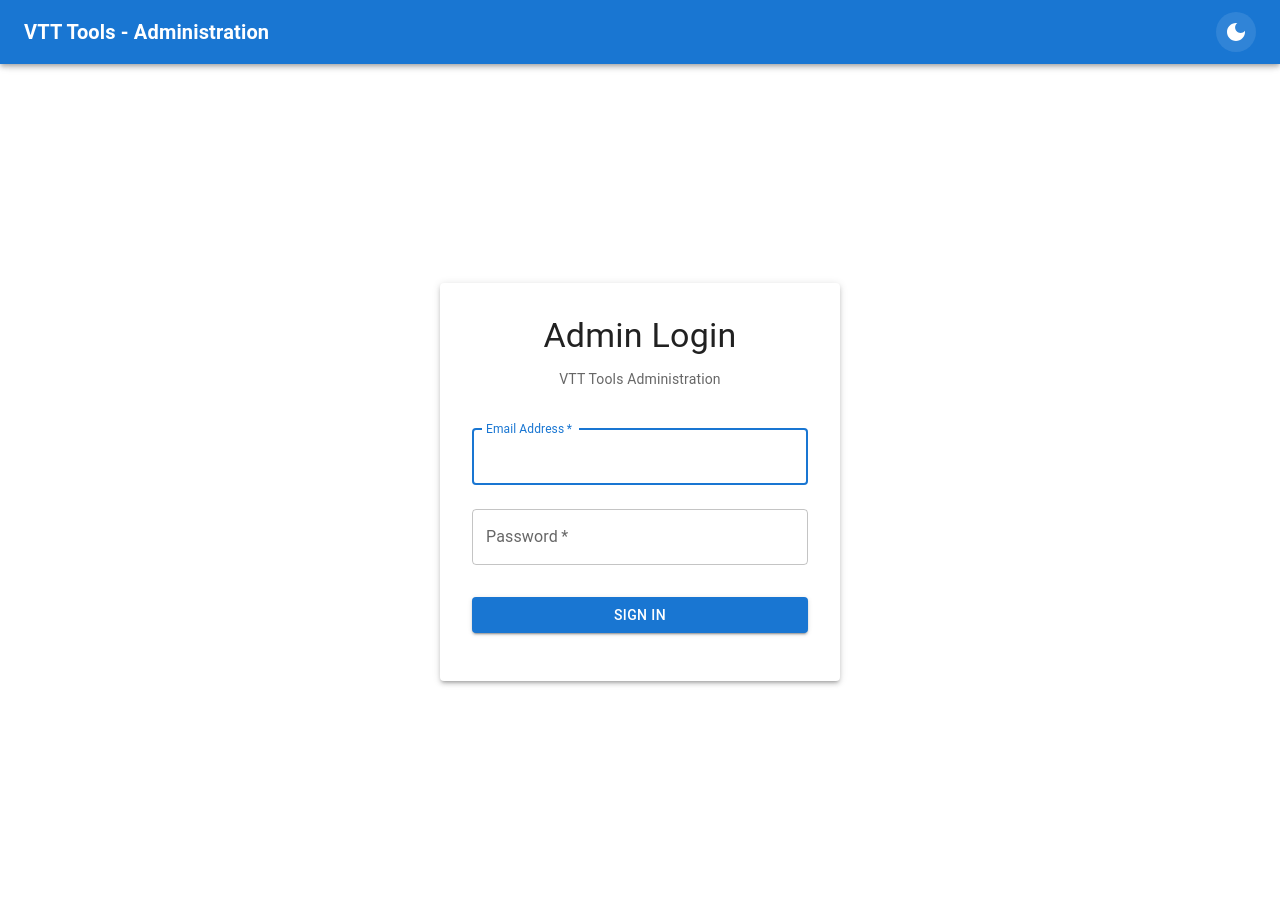
LoginPage › Password validation › should clear validation error when password field is emptied
The image size is (1280, 900).
Type "short" into the password field labelled "Password *" at (640, 537), box [472,509,808,565]
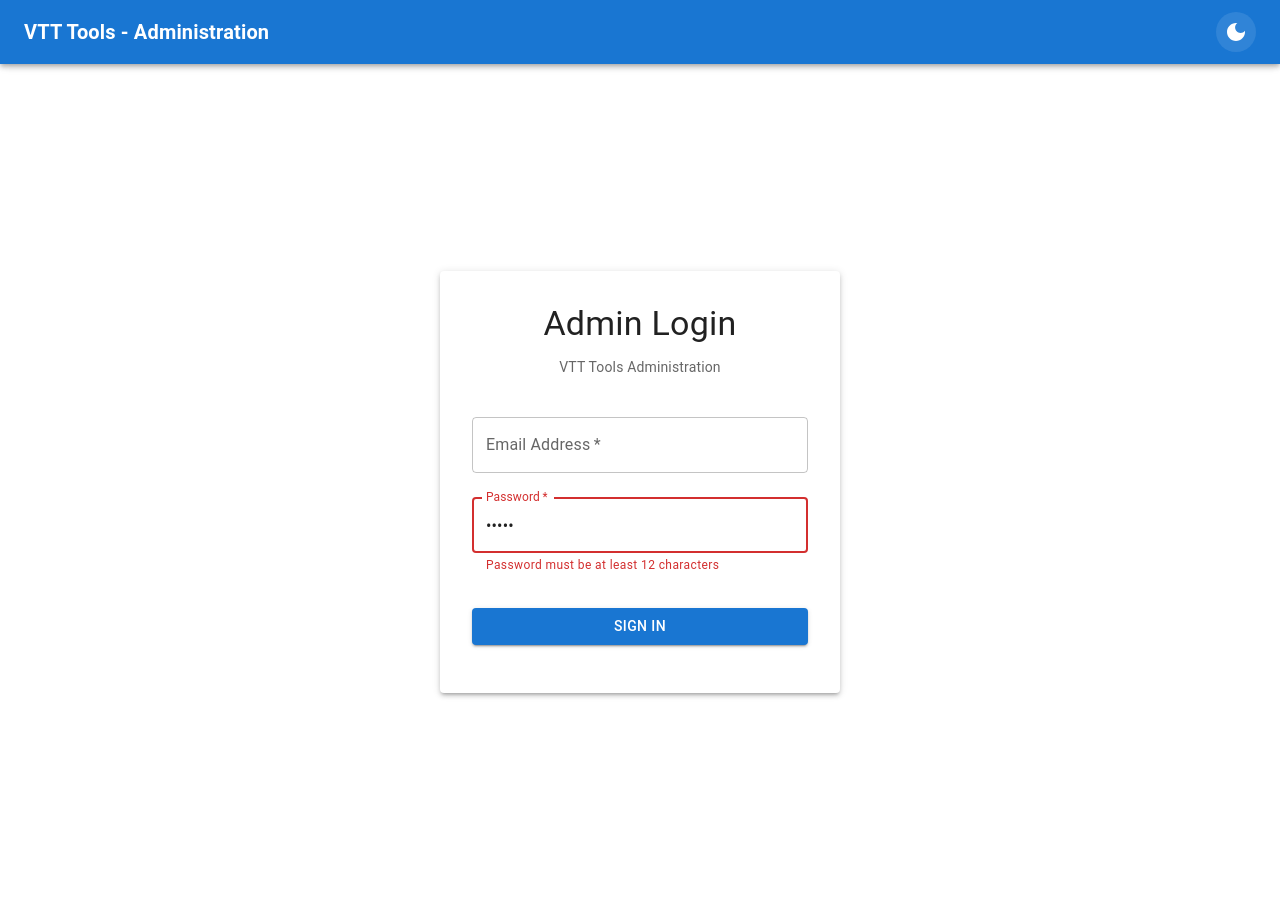
Expected: the text "Password must be at least 12 characters" is shown, [486,558,719,572]
Clear the password field labelled "Password *" at (640, 525), box [472,497,808,553]
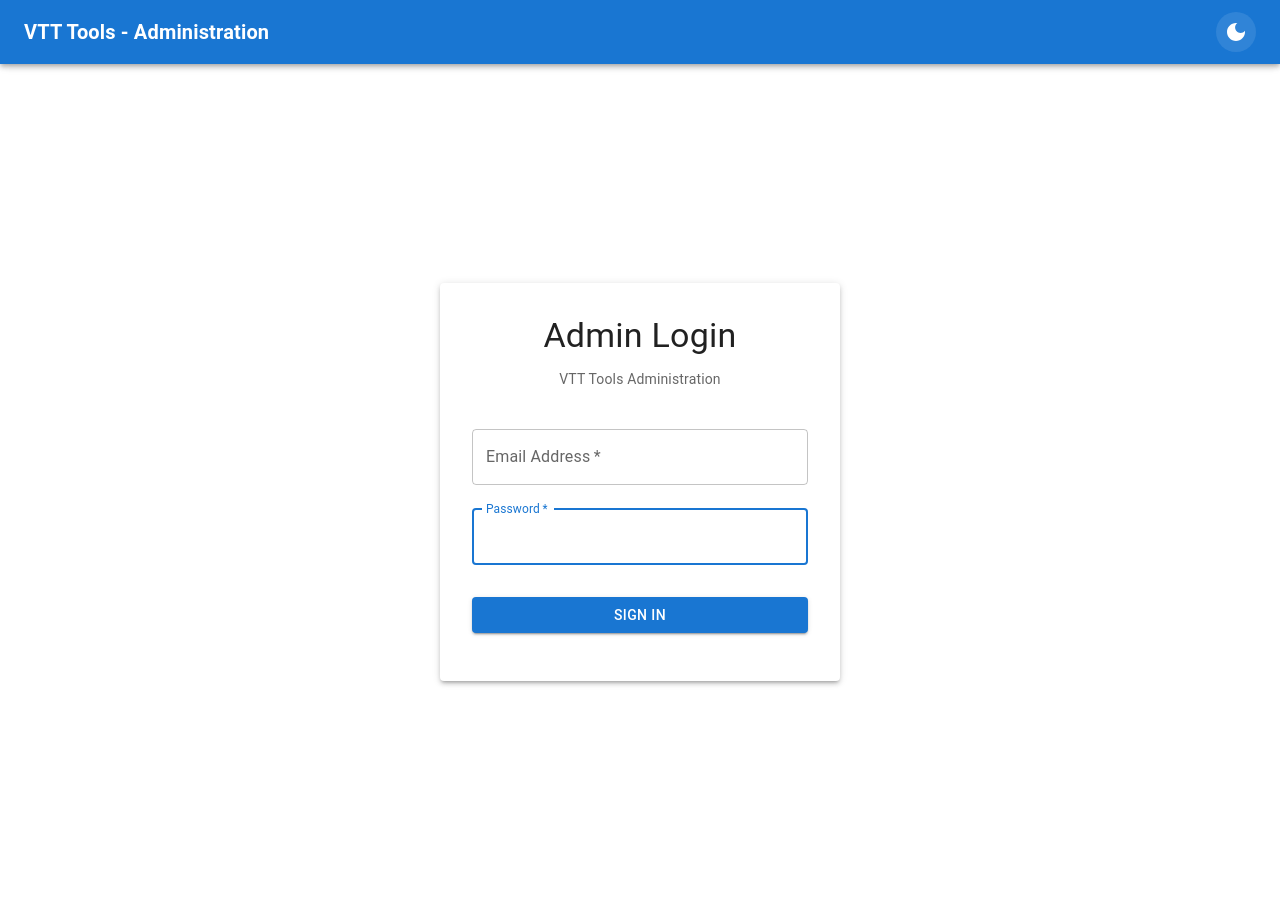
Expected: the text "Password must be at least 12 characters" is gone
